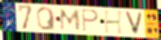7: (17, 4, 34, 32)
H: (103, 10, 125, 36)
M: (60, 8, 82, 31)
P: (81, 8, 101, 33)
Q: (35, 6, 57, 31)
V: (124, 10, 145, 37)
